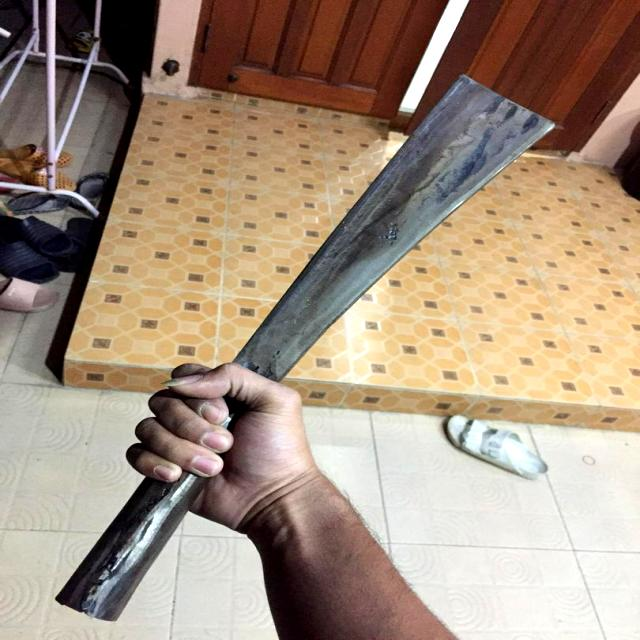eto: (29, 58, 567, 637)
